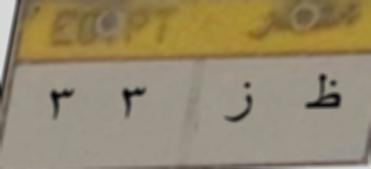3: (36, 84, 82, 126), (116, 76, 151, 127)
Thaa: (303, 62, 346, 124)
zay: (216, 77, 264, 131)
